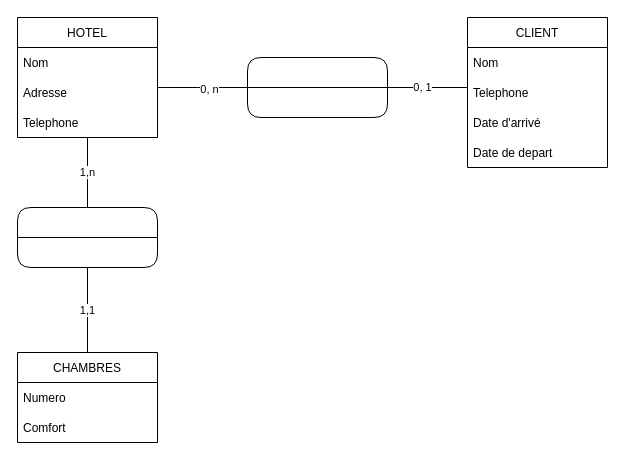
This 625x460 diagram has some shape labels left out. The centre of each missing label's shape, as x and y in pixels:
"LIER" goes at point 317,87.
"POSSEDER" goes at point 87,237.
